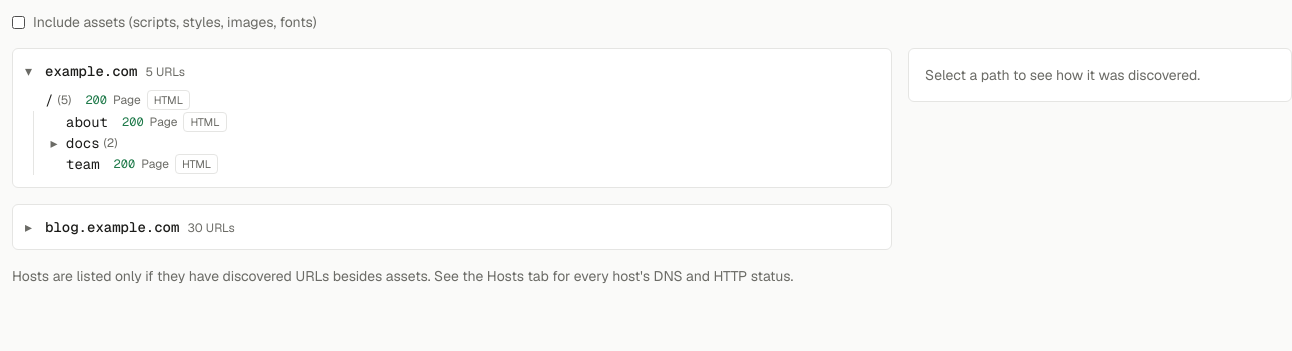
Scenario: SiteMap loads only what is shown › opens the first host's tree and leaves the others closed
This screenshot has width=1292, height=351.
Expected: the button "about" is shown, [66, 112, 108, 132]
What coordinates should you click on to do the following:
click the button "▸ blog.example.com"
I would click on:
 (102, 227)
Its box is [25, 217, 179, 237].
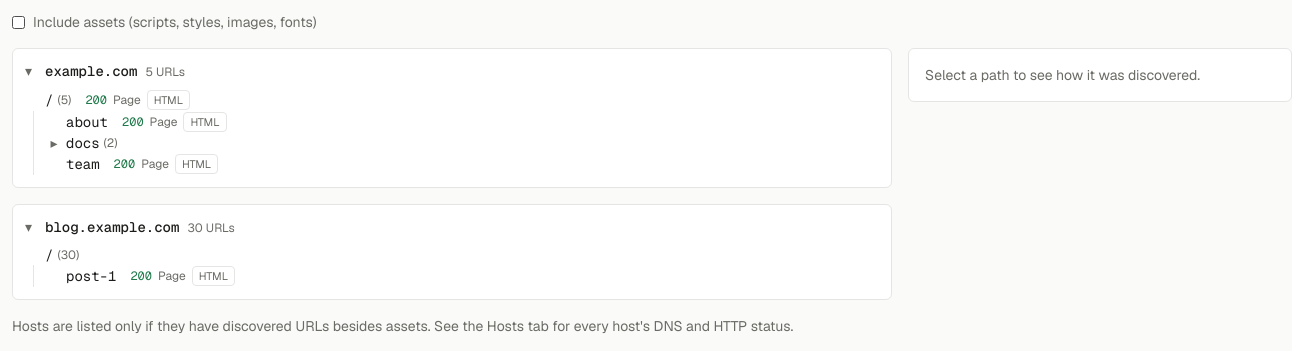
Now the button "post-1" is shown, box [66, 266, 116, 286]
